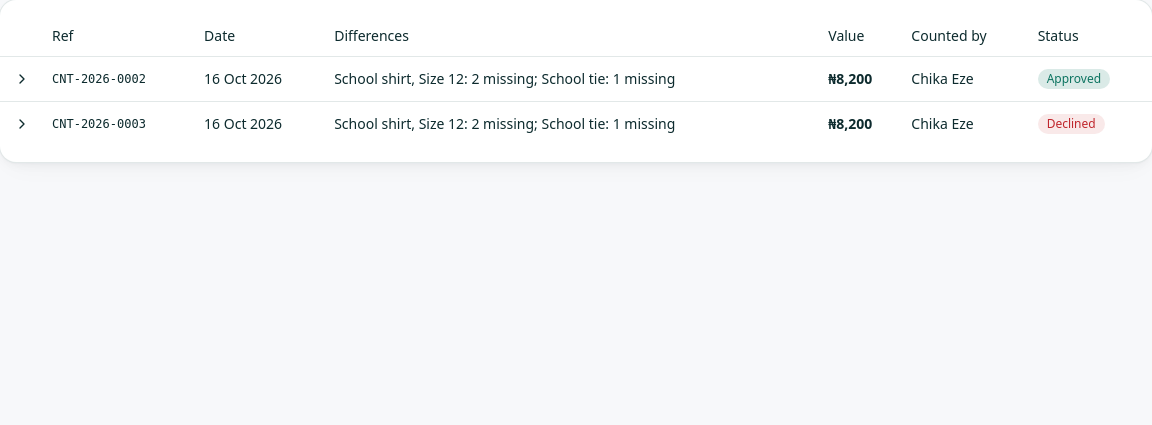
Test: StockCountsTable › shows Approved, and Declined with the reason on expanding
The image size is (1152, 425).
Expected: the text "Approved" is shown, [1038,69,1110,89]
Expected: the text "Declined" is shown, [1038,114,1105,134]
Click the button named "Show counted items" in the row of "Declined".
click(22, 124)  # box [8,110,36,138]
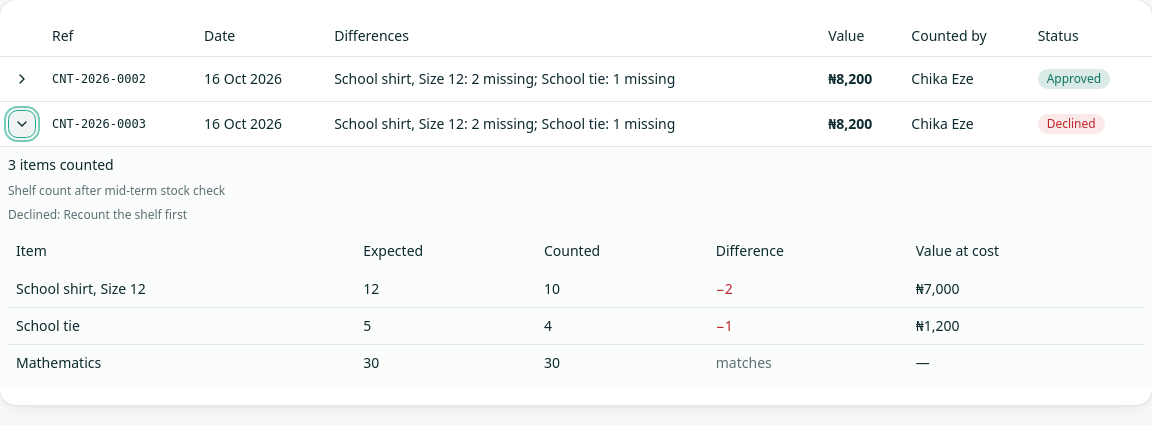
Expected: the text "Declined: Recount the shelf first" is shown, [8,206,187,222]
